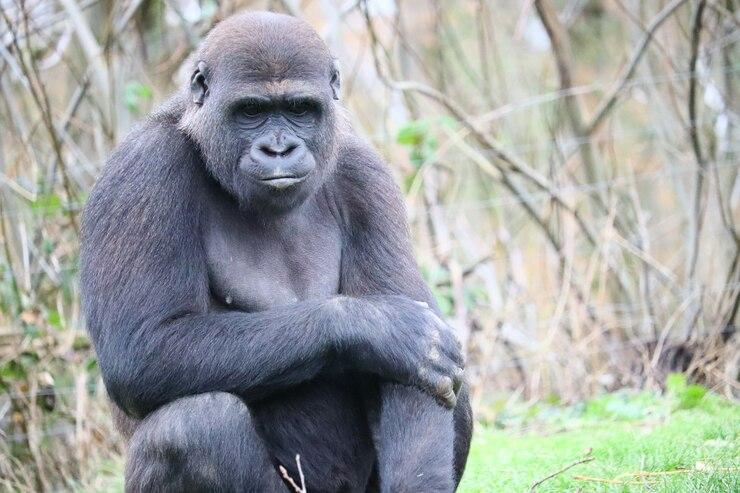gorille_Autres: (70, 0, 488, 486)
